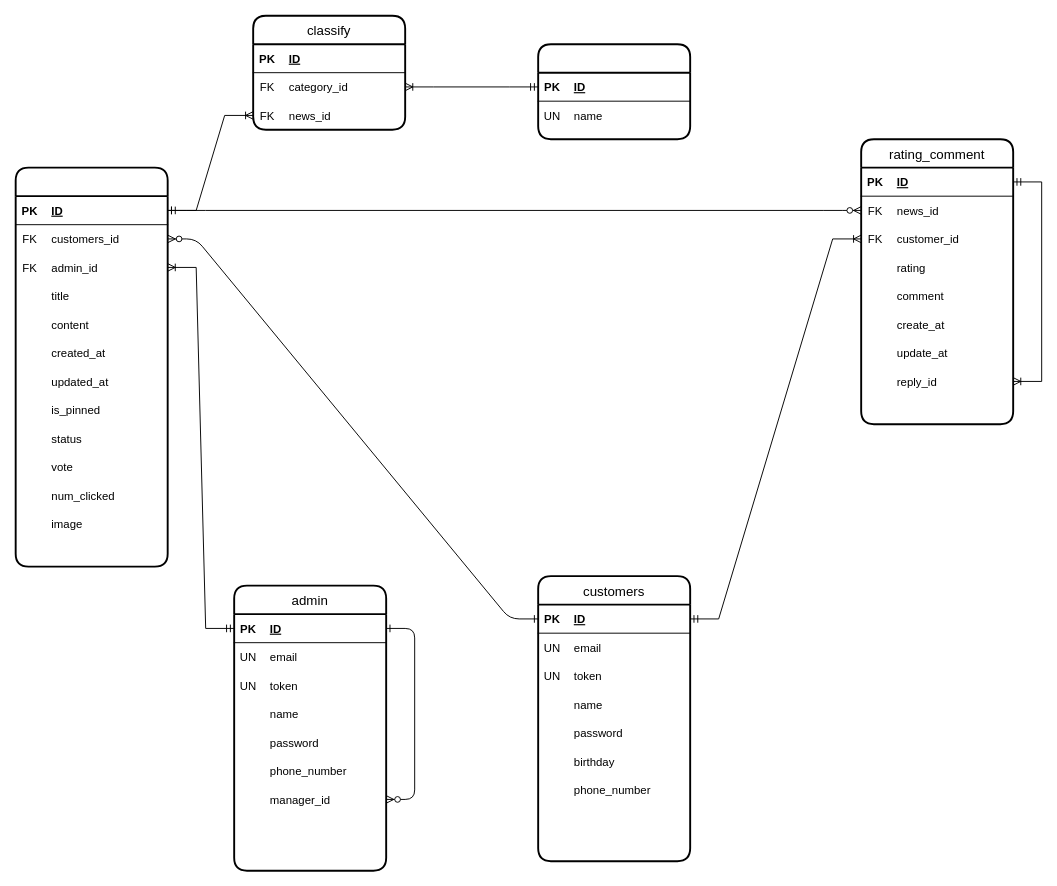
The diagram is 1057 pixels wide and 886 high, and some of its shapes have lost their labels. Each missing label, with the box of its shape:
category: (537, 43, 691, 140)
news: (14, 166, 168, 567)
